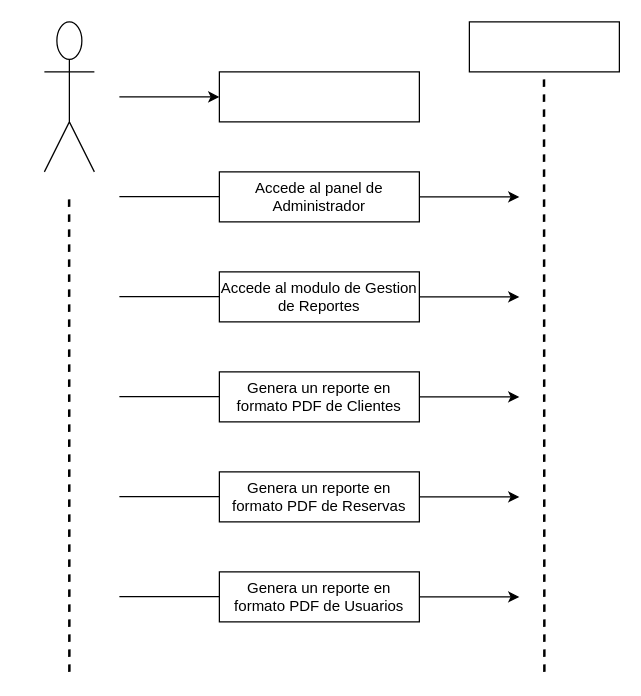
This 641x696 diagram has some shape labels left out. The centre of each missing label's shape, as x and y in pixels:
"Administrador" belongs at point 68,96.
"Inicio de Sesion" belongs at point 318,96.
"Sistema The Grand Hall" belongs at point 543,46.
